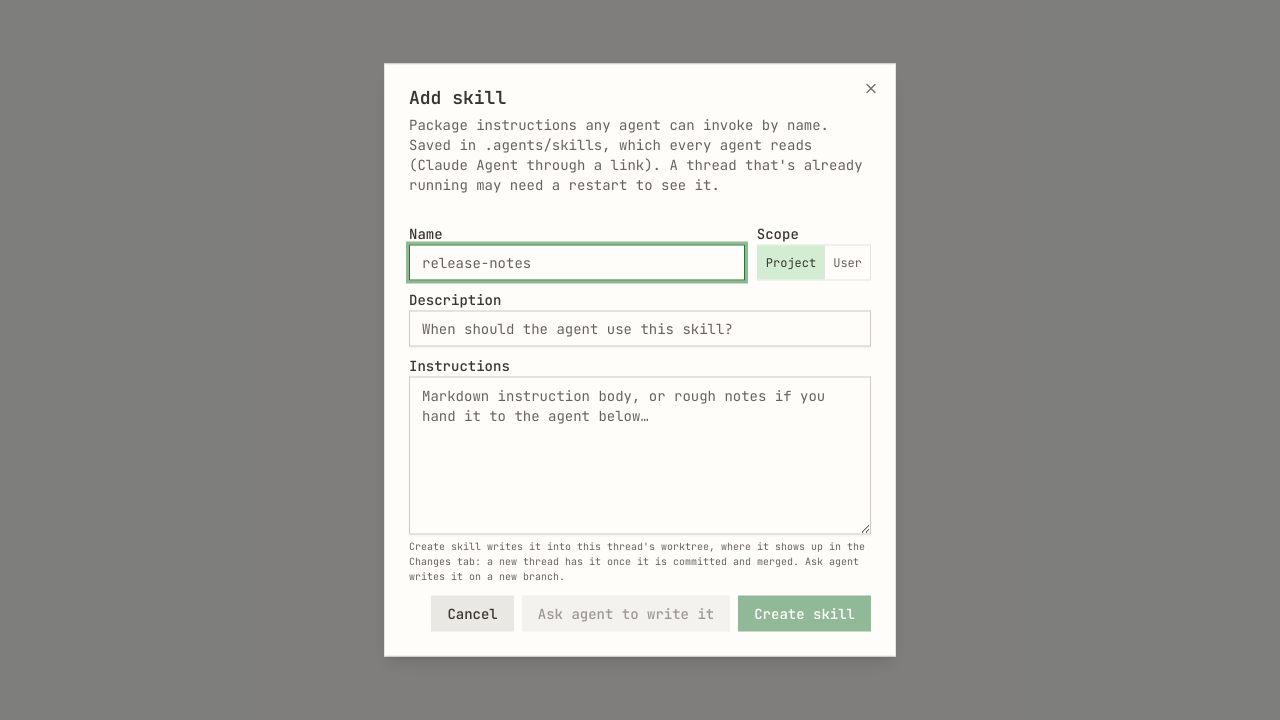
Test: AddSkillDialog › holds back names the Agent Skills format rejects, saying why
Type "Draft notes" into the field labelled "Description" at (640, 328), box [409,310,871,346]
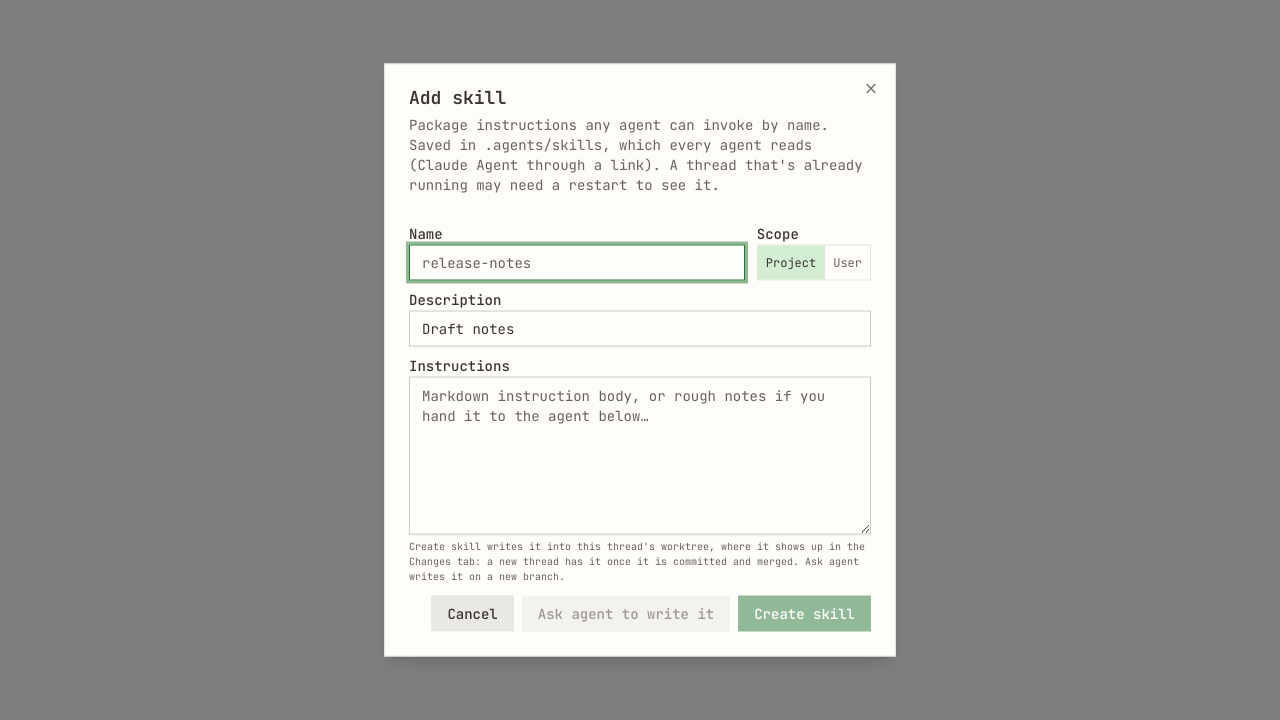
Replace the text in the text box labelled "Instructions" with "Do it" at (640, 456), box [409,376,871,534]
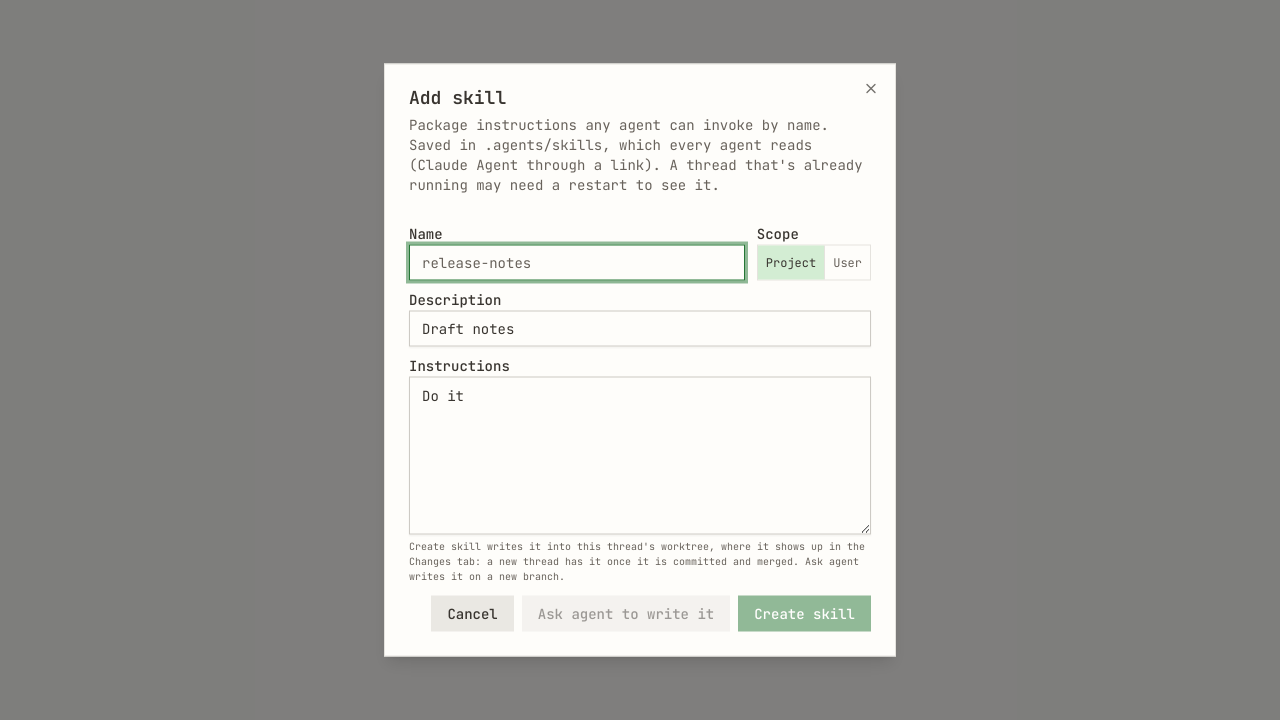
Type "trailing-" into the field labelled "Name" at (577, 262), box [409,244,745,280]
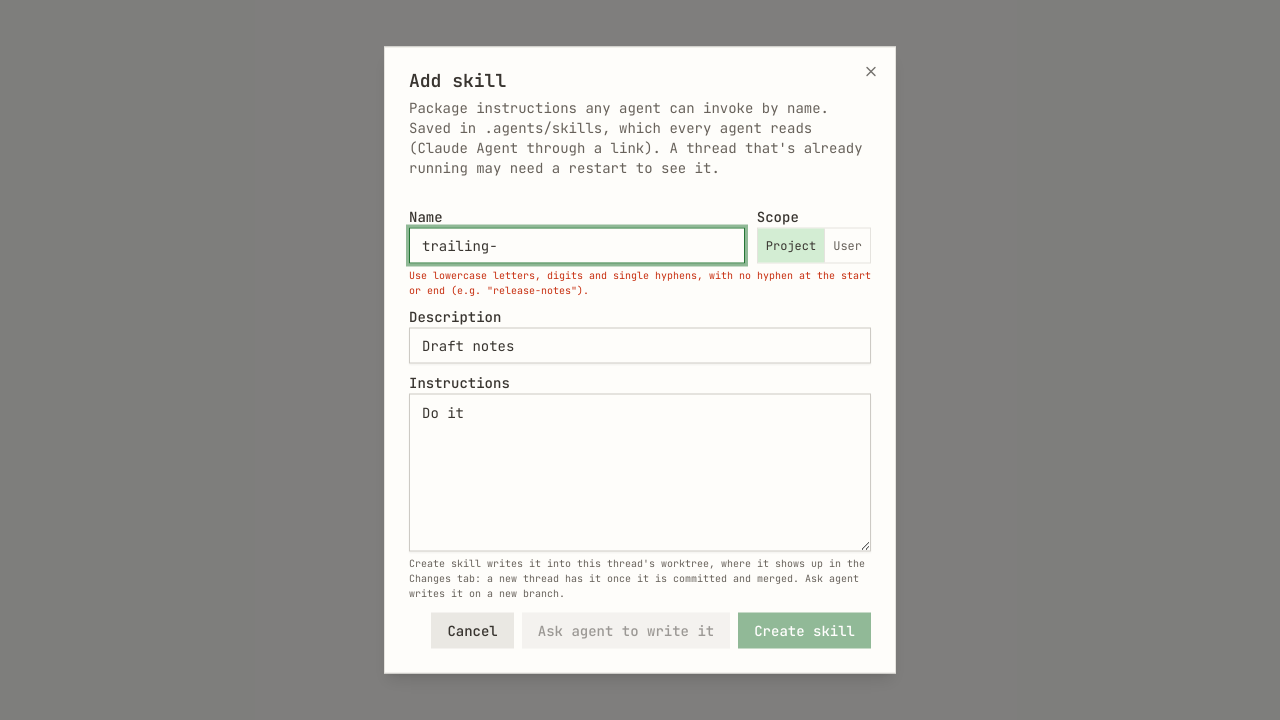
Expected: the button "Create skill" is disabled, [738,612,871,648]
Result: the text "Use lowercase letters, digits and single hyphens" is shown at [409,268,871,296]
Replace the text in the field labelled "Name" with "two--dashes" at (577, 246), box [409,228,745,264]
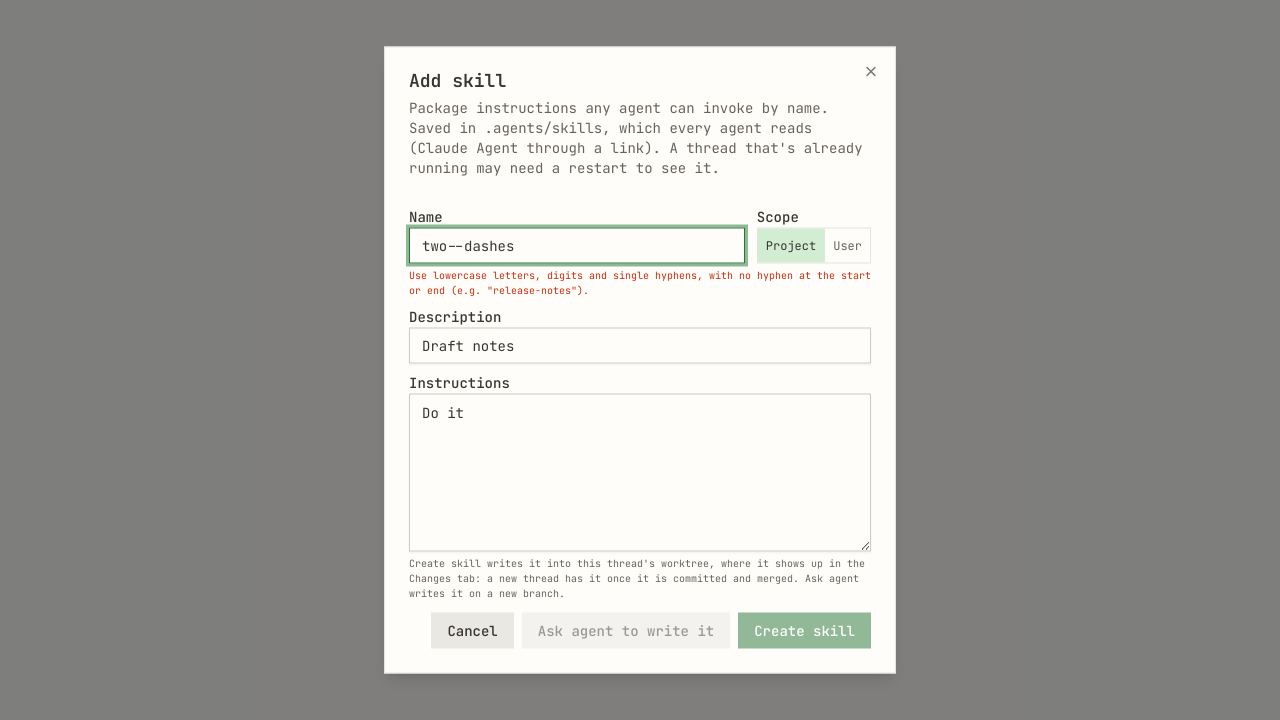
Expected: the button "Create skill" is disabled, [738,612,871,648]
Result: the text "Use lowercase letters, digits and single hyphens" is shown at [409,268,871,296]
Replace the text in the field labelled "Name" with "Upper" at (577, 246), box [409,228,745,264]
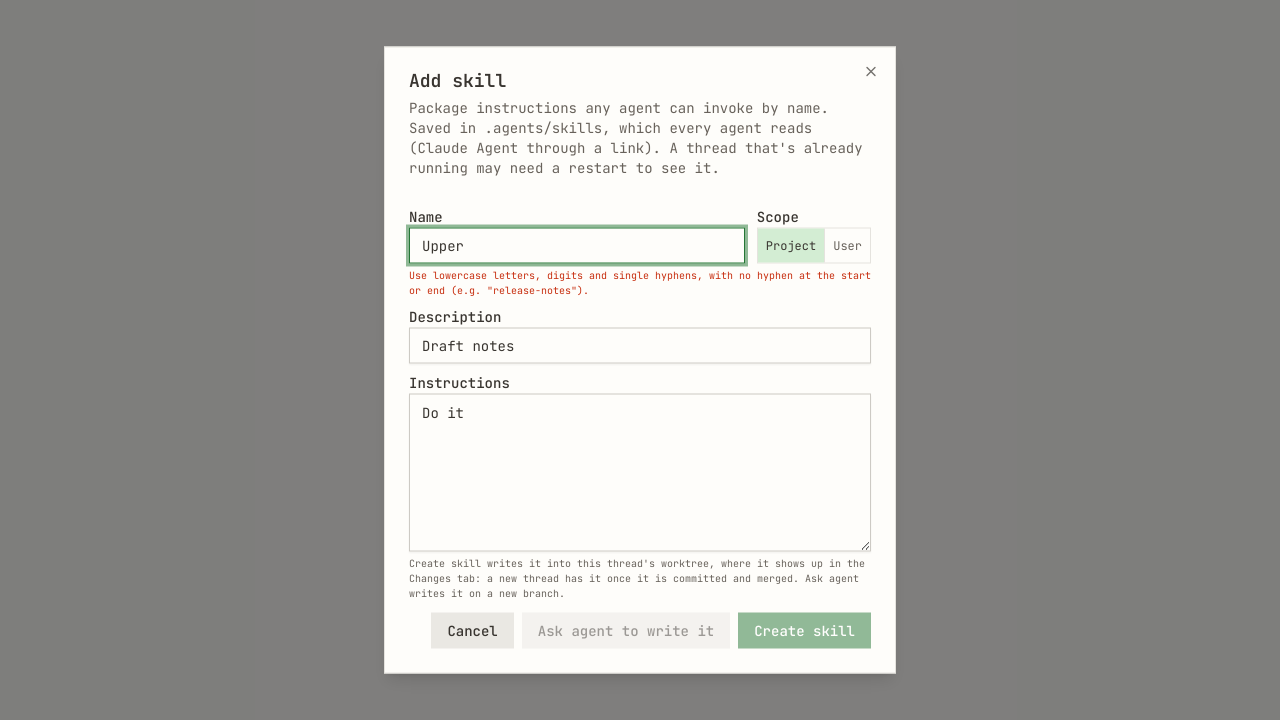
Expected: the button "Create skill" is disabled, [738,612,871,648]
Result: the text "Use lowercase letters, digits and single hyphens" is shown at [409,268,871,296]
Replace the text in the field labelled "Name" with "release-notes" at (577, 246), box [409,228,745,264]
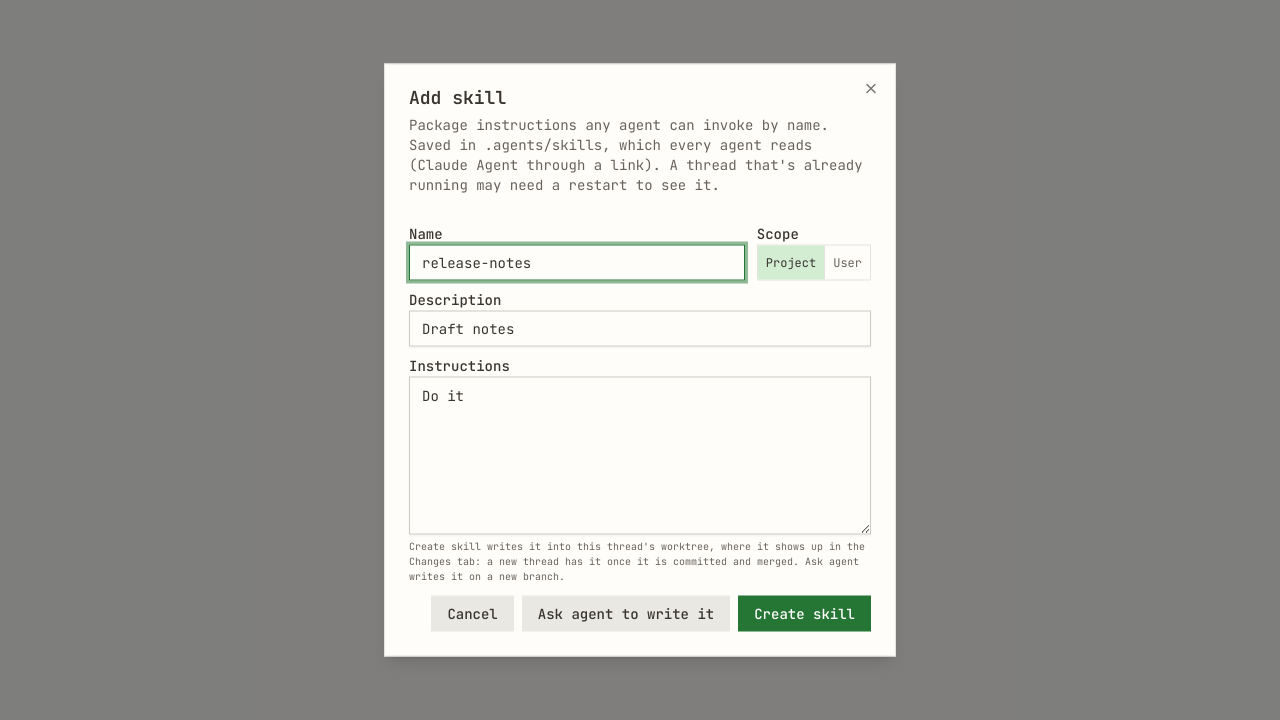
Result: the button "Create skill" is enabled at [738,596,871,632]
